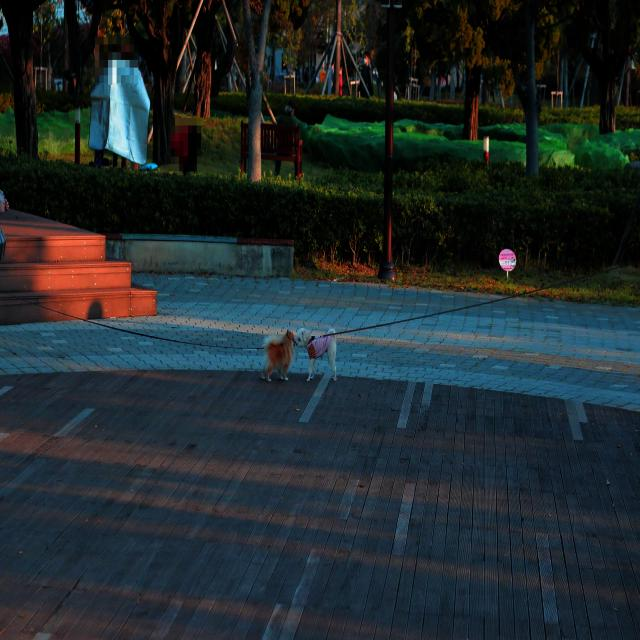Dog: (296, 328, 337, 382), (260, 329, 296, 382)
